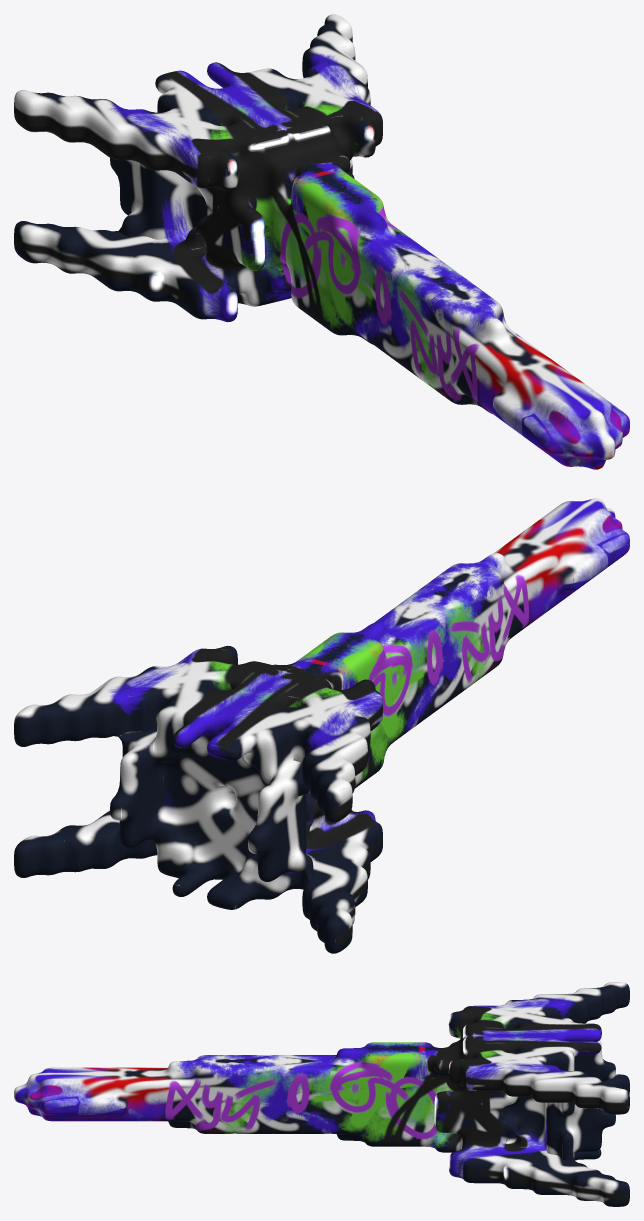
Rendered from concept.gltf.
3 views of the same model, one above another, from view 1: azimuth 30°, elevation 25°; view 2: azimuth 150°, elevation 25°; view 3: azimuth 270°, elevation 25° (orthographic). The views are drawn at different scales.
Parts seen in each view (by area): view 1: Cube.001; view 2: Cube.001; view 3: Cube.001.
Boxes of the visible parts, <box> form: Cube.001: <box>14,14,629,469</box>; Cube.001: <box>14,498,629,953</box>; Cube.001: <box>14,982,629,1206</box>.
Bounding box in the file's own units: 4.51 × 2.2 × 10.42.
Materials: 1 (1 with a texture image).
